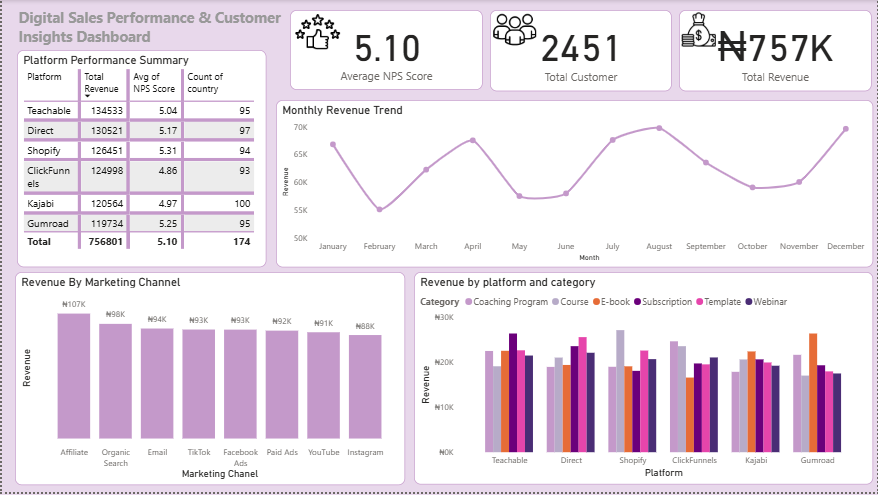

This screenshot's page, from the dashboard's own definition file:
{"tool":"powerbi","page":{"name":"Page 1","canvas":[1280,720],"ordinal":0},"visuals":[{"type":"lineChart","title":"Monthly Revenue Trend","fields":{"Category":["Digital Sales - Customer Data.date.Variation.Date Hierarchy.Month"],"Y":["Digital Sales - Customer Data.Total_Revenue"]},"box":[400.4,146.6,874.2,244.9],"z":0},{"type":"clusteredColumnChart","title":"Revenue By Marketing Channel","fields":{"Y":["Sum(Digital Sales - Customer Data.revenue)"],"Category":["Digital Sales - Customer Data.marketing_channel"]},"box":[19,398,570.7,311.7],"z":1000},{"type":"clusteredColumnChart","title":"Revenue by platform and category","fields":{"Y":["Sum(Digital Sales - Customer Data.revenue)"],"Category":["Digital Sales - Customer Data.platform"],"Series":["Digital Sales - Customer Data.category"]},"box":[602.5,398.7,672.2,311.1],"z":2000},{"type":"textbox","box":[19,0,398,71.7],"z":3000},{"type":"tableEx","title":"Platform Performance Summary","fields":{"Values":["Digital Sales - Customer Data.platform","Digital Sales - Customer Data.Total_Revenue","Avg(Digital Sales - Customer Data.nps_score)","Digital Sales - Customer Data.customer_country"]},"box":[21.5,73.3,364.7,318.2],"z":4000},{"type":"card","fields":{"Values":["Digital Sales - Customer Data.Total_Revenue"]},"box":[990.7,14.6,282.4,118.5],"z":5000},{"type":"card","fields":{"Values":["Count(Digital Sales - Customer Data.customer_name)"]},"box":[714.1,14.6,266.3,118.5],"z":6000},{"type":"card","fields":{"Values":["Avg(Digital Sales - Customer Data.nps_score)"]},"box":[421.5,14.6,282.4,117.1],"z":7000},{"type":"image","box":[977.6,13.2,84.9,60],"z":7001},{"type":"image","box":[703.9,5.9,93.7,74.6],"z":7002},{"type":"image","box":[395.1,5.9,134.6,80.5],"z":7003}]}

Visuals, with their boxes in screenshot pixels (x1, y1, x2, y2), scaled from the page's 1280x720 canvas onto the 878x495 screenshot:
"Monthly Revenue Trend" lineChart: <region>275, 101, 874, 269</region>
"Revenue By Marketing Channel" clusteredColumnChart: <region>13, 274, 404, 488</region>
"Revenue by platform and category" clusteredColumnChart: <region>413, 274, 874, 488</region>
textbox: <region>13, 0, 286, 49</region>
"Platform Performance Summary" tableEx: <region>15, 50, 265, 269</region>
card - Digital Sales - Customer Data.Total_Revenue: <region>680, 10, 873, 92</region>
card - Count(Digital Sales - Customer Data.customer_name): <region>490, 10, 672, 92</region>
card - Avg(Digital Sales - Customer Data.nps_score): <region>289, 10, 483, 91</region>
image: <region>671, 9, 729, 50</region>
image: <region>483, 4, 547, 55</region>
image: <region>271, 4, 363, 59</region>
